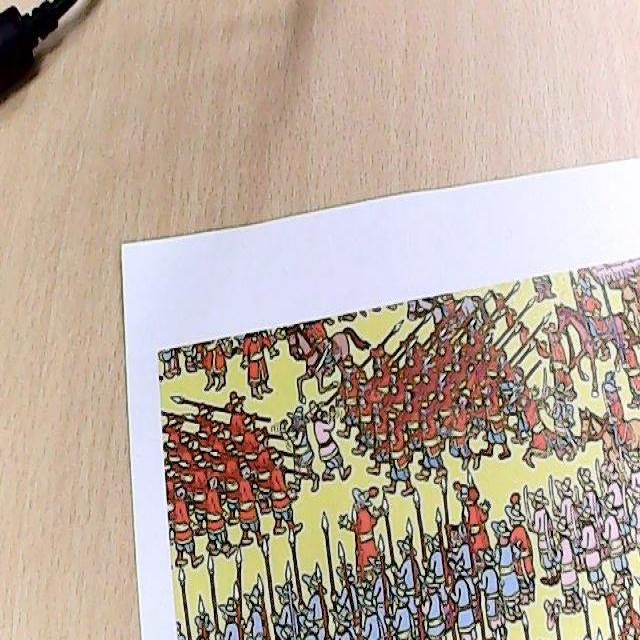waldo: (444, 521, 463, 548)
